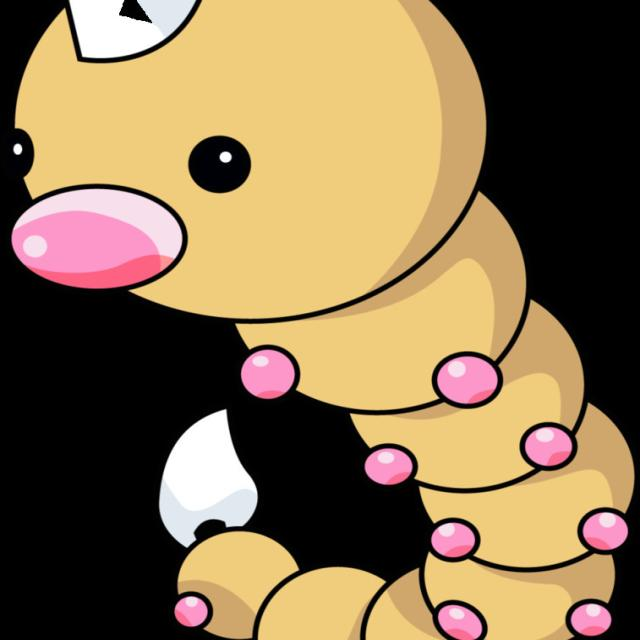Weedle: (0, 0, 586, 640)
